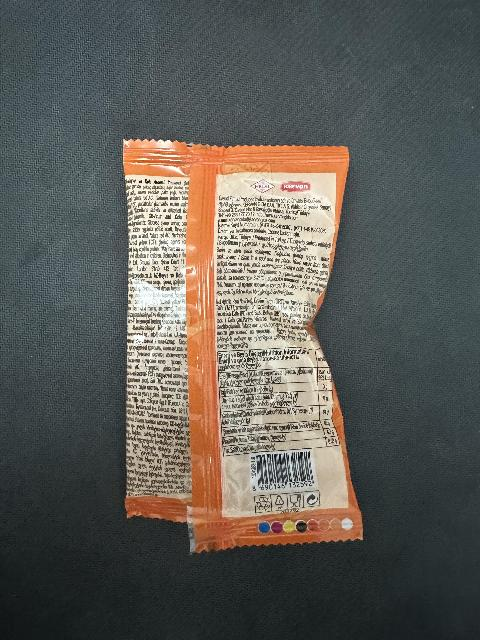Plastik: (125, 141, 384, 546)
